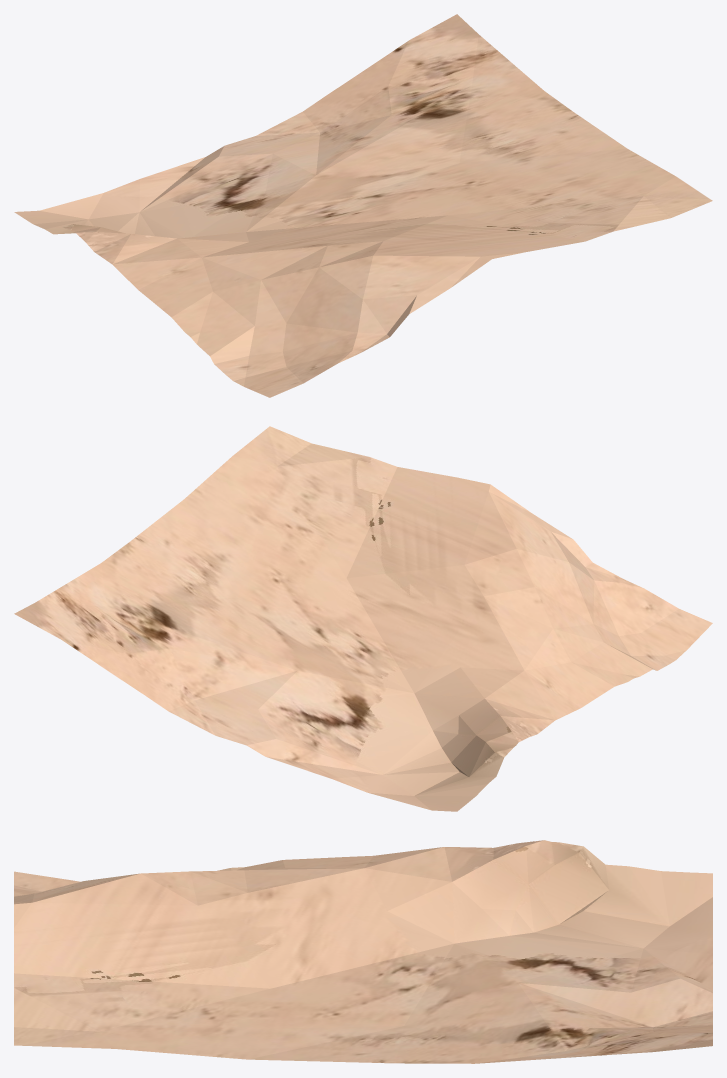
3 views of the same model, one above another, from view 1: azimuth 30°, elevation 25°; view 2: azimuth 150°, elevation 25°; view 3: azimuth 270°, elevation 25° (orthographic). The views are drawn at different scales.
Bounding box in the file's own units: 1.04 × 0.2261 × 1.04.
Materials: 3 (3 with a texture image).
